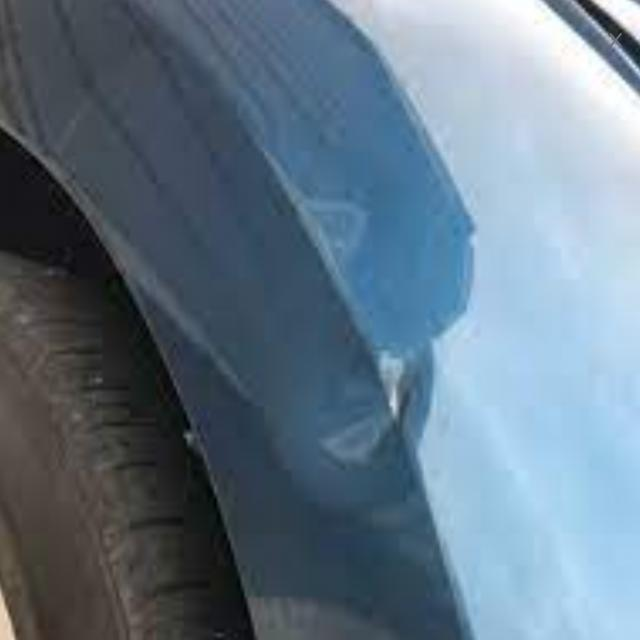dents: (312, 325, 452, 499)
